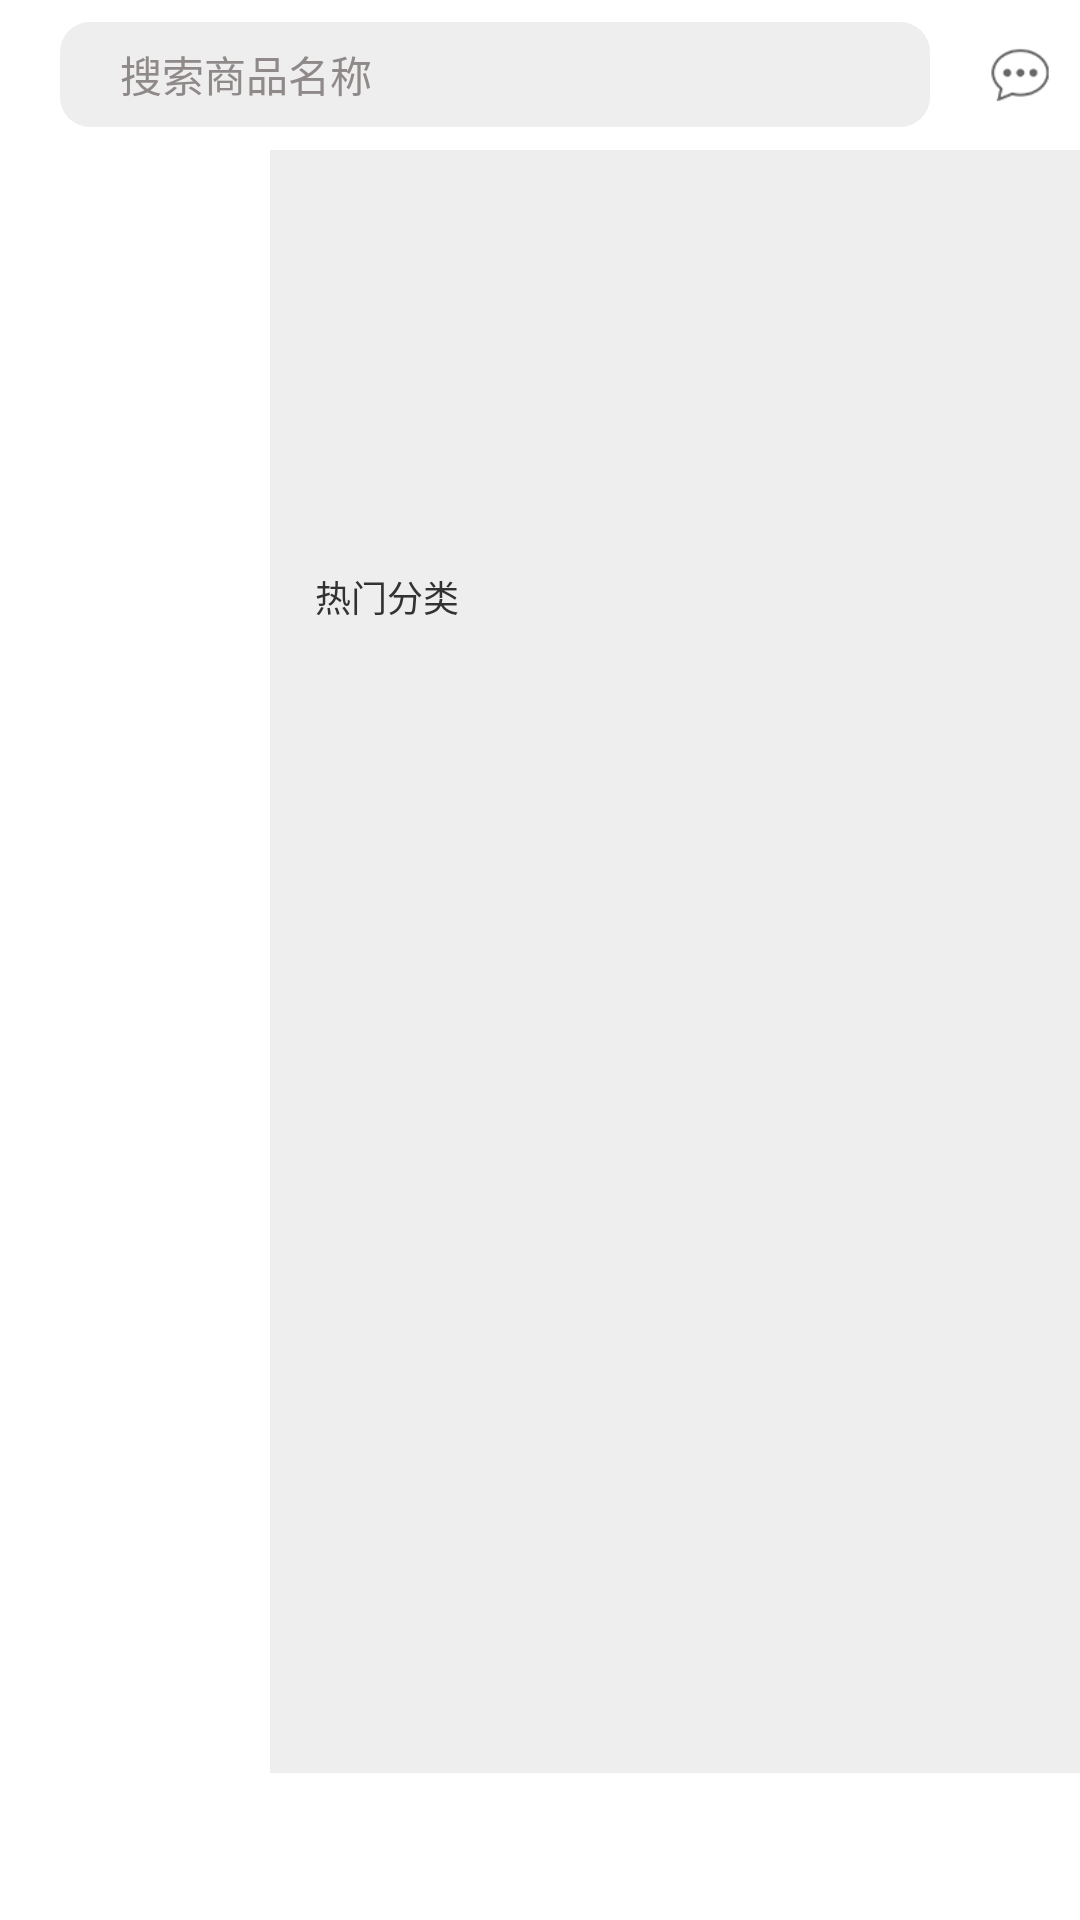

Icons on this 1080 × 1920 Android screen, each with its box as bbox=[x1, y1, x2, y2]:
xiaoxi: bbox=[991, 49, 1049, 101]
